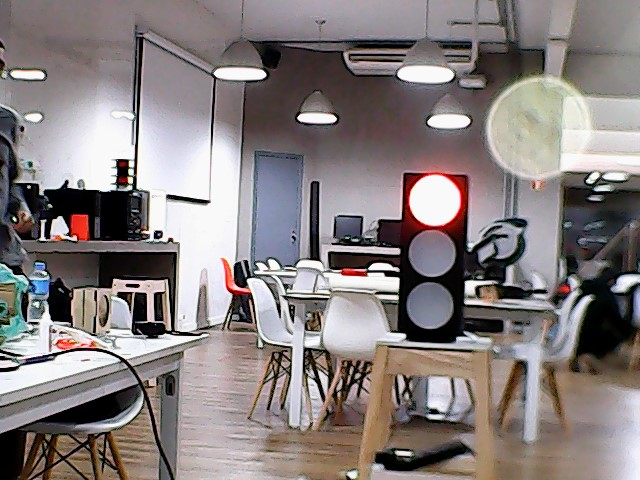vermelho: (398, 165, 468, 341)
